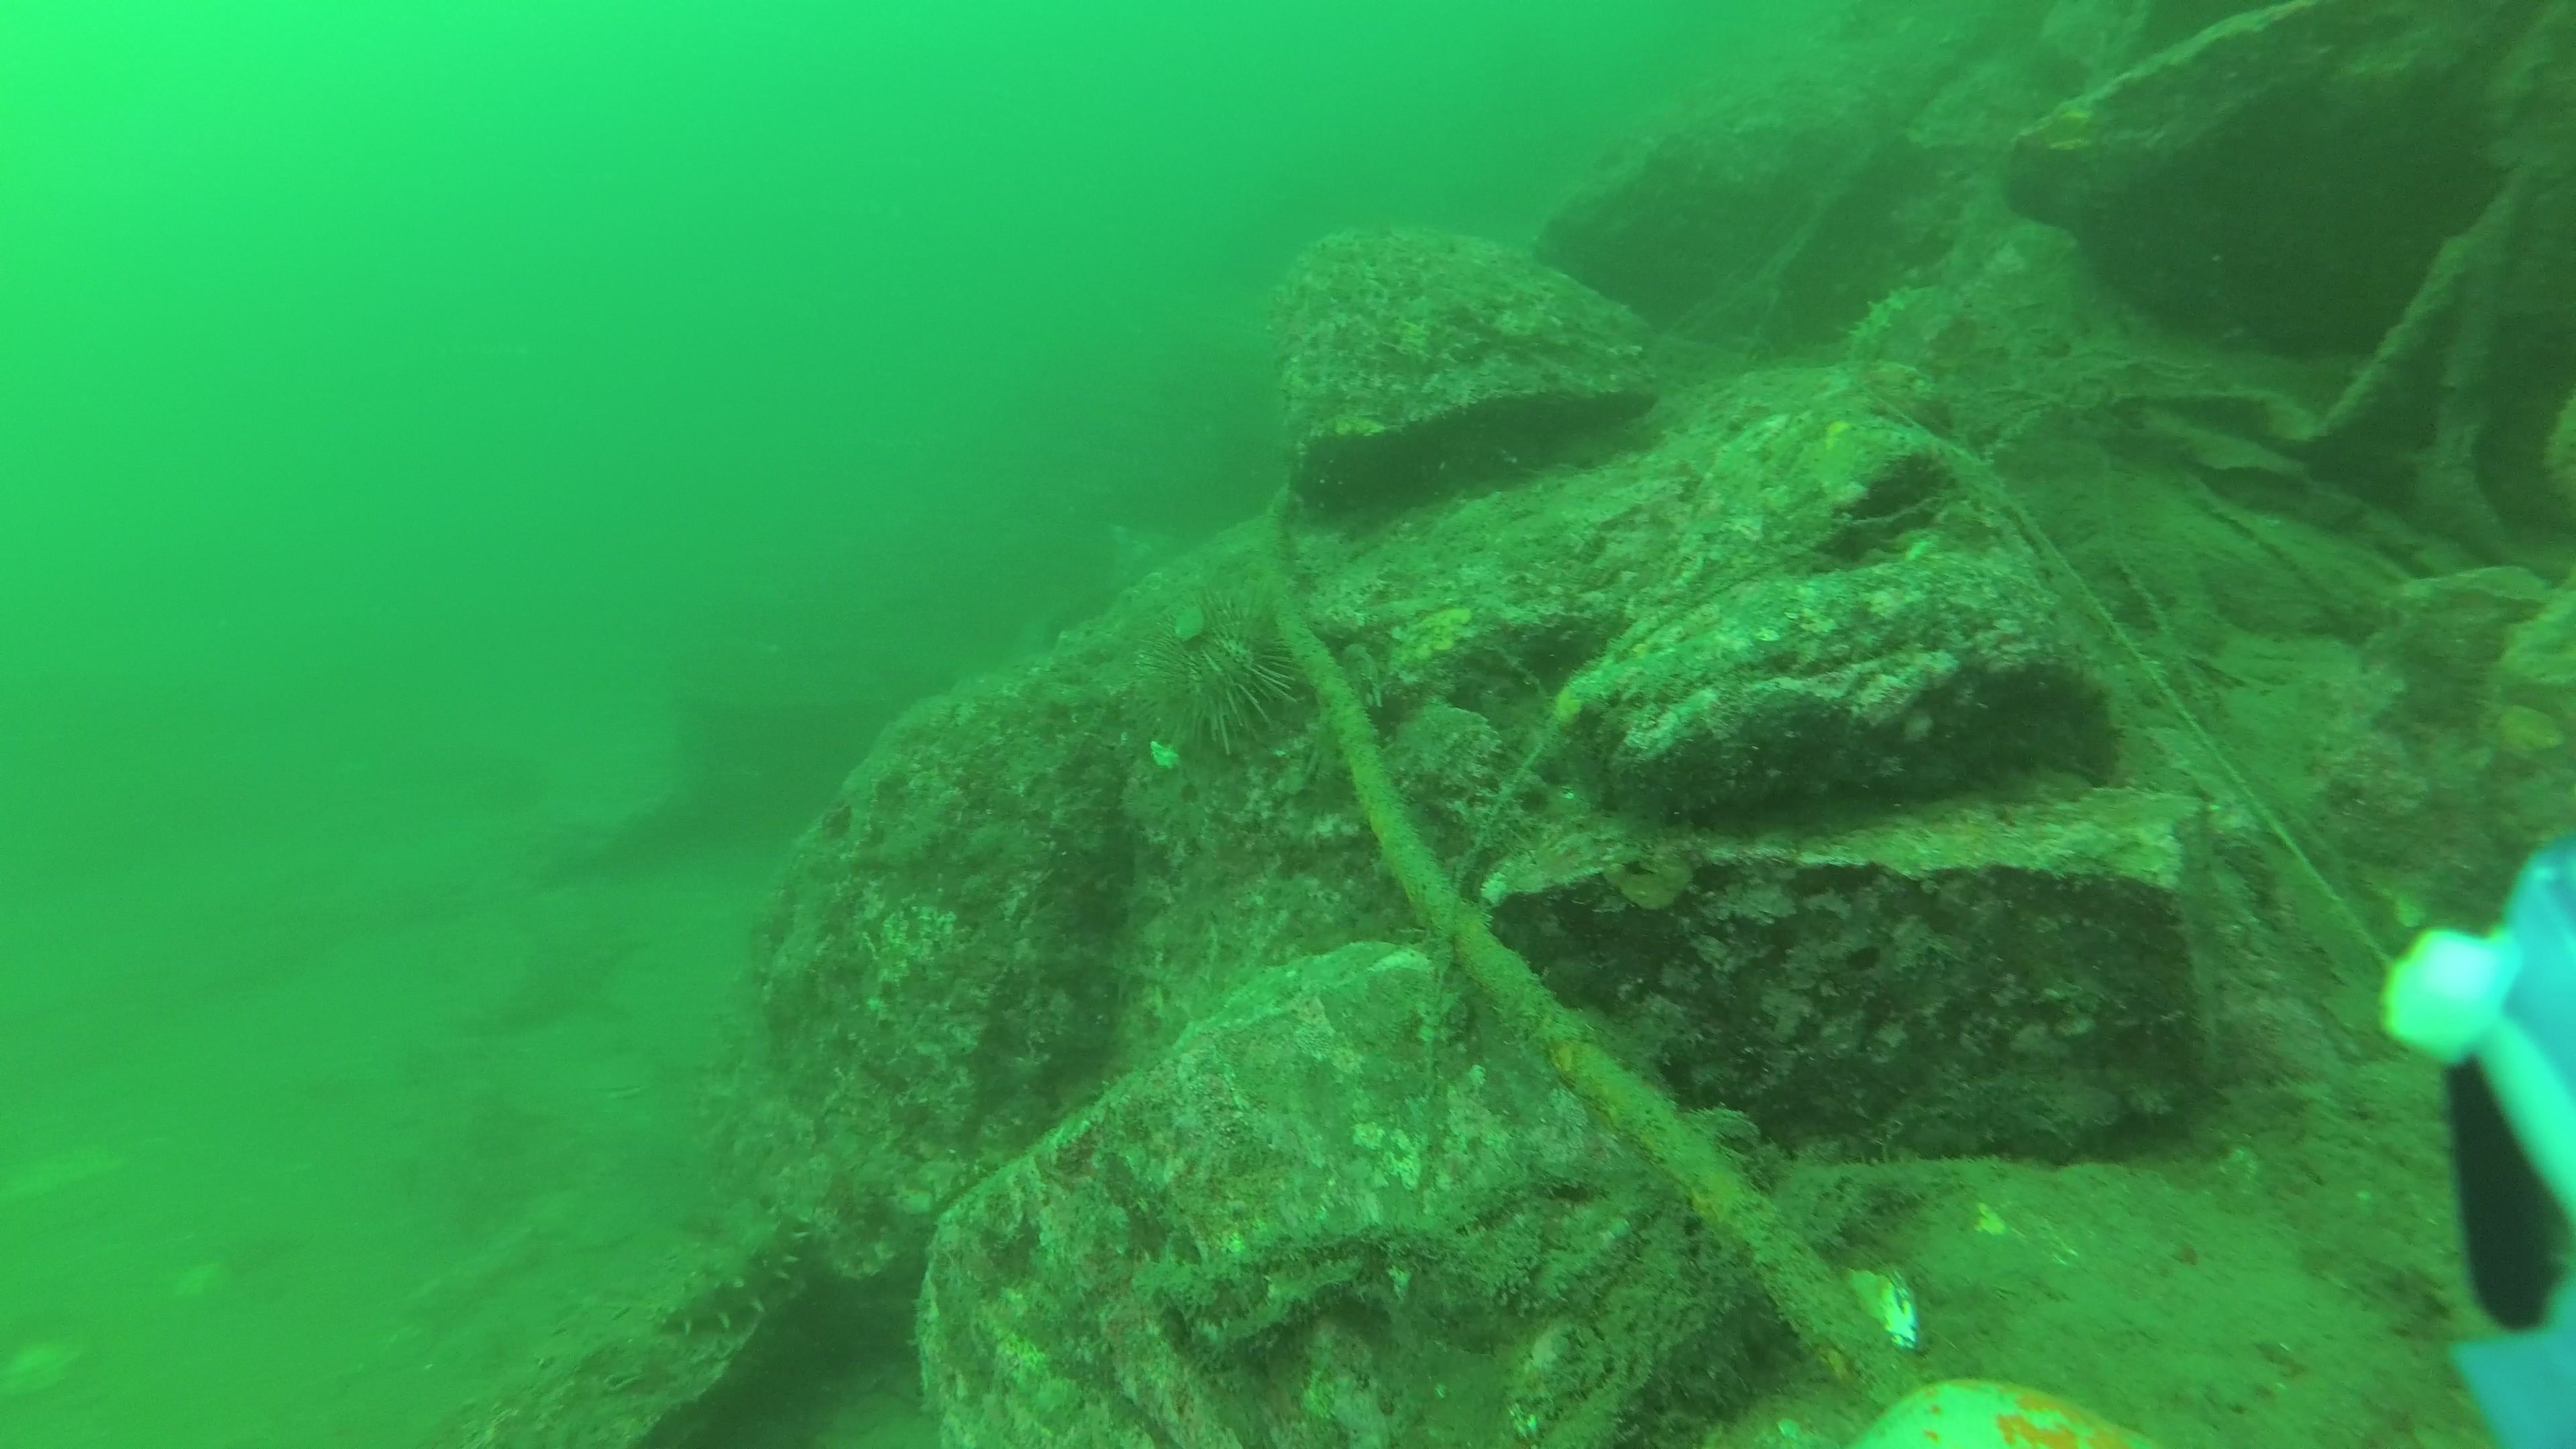echinus: (1116, 586, 1306, 757)
holothurian: (655, 1201, 805, 1345)
starfish: (1822, 1369, 2169, 1449)
